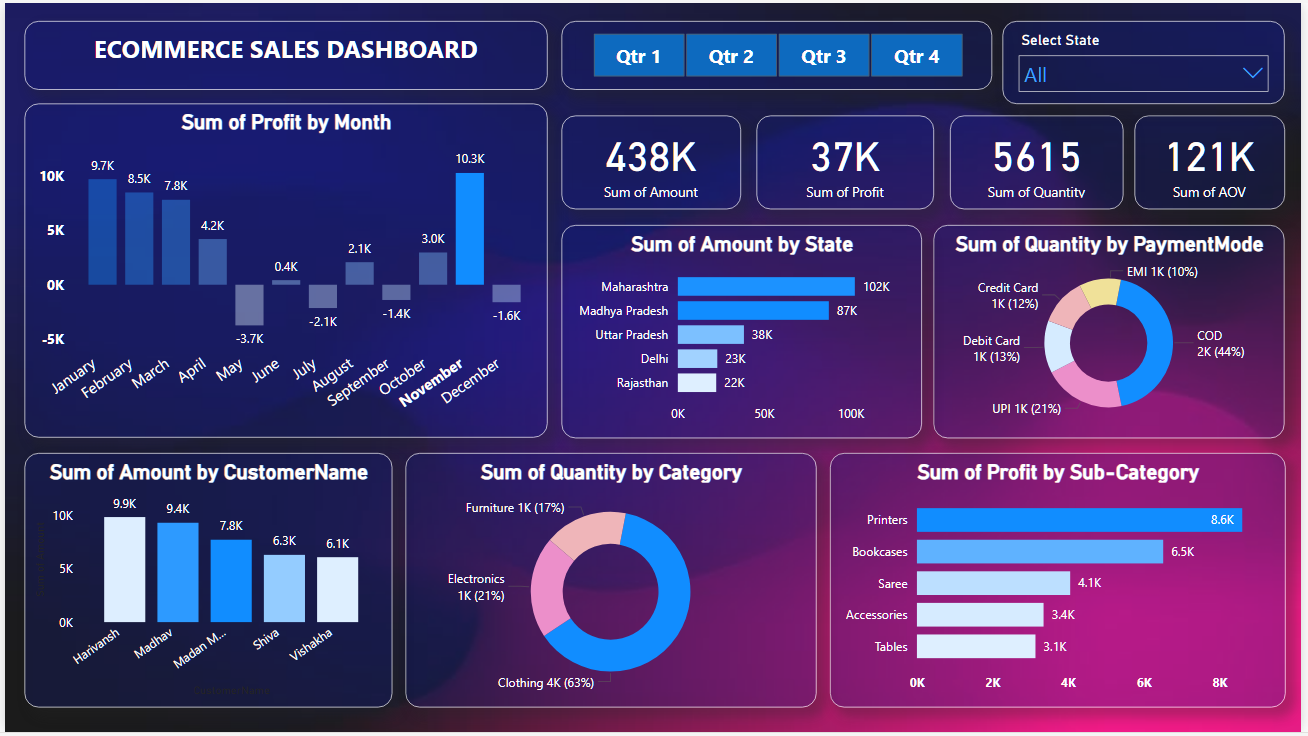

This screenshot's page, from the dashboard's own definition file:
{"tool":"powerbi","page":{"name":"Page 1","canvas":[1280,720],"ordinal":0},"visuals":[{"type":"textbox","box":[19.7,18.2,516.3,68.1],"z":0},{"type":"columnChart","fields":{"Y":["Details.Profit"],"Category":["Orders.Order Date.Variation.Date Hierarchy.Month"]},"box":[19.7,99.9,516.3,330.1],"z":1000},{"type":"barChart","fields":{"Category":["Details.Sub-Category"],"Y":["Details.Profit"]},"box":[814.6,445.2,449.7,251.4],"z":2000},{"type":"donutChart","fields":{"Category":["Details.Category"],"Y":["Details.Quantity"]},"box":[395.2,445.2,405.8,251.4],"z":3000},{"type":"donutChart","fields":{"Y":["Details.Quantity"],"Category":["Details.PaymentMode"]},"box":[917.6,219.6,346.8,210.5],"z":4000},{"type":"card","fields":{"Values":["Details.Amount"]},"box":[549.7,110.5,177.2,92.4],"z":5000},{"type":"card","fields":{"Values":["Details.Profit"]},"box":[742,110.5,175.6,92.4],"z":6000},{"type":"card","fields":{"Values":["Details.Quantity"]},"box":[932.8,110.5,171.1,92.4],"z":7000},{"type":"card","fields":{"Values":["Details.AOV"]},"box":[1116,110.5,148.4,92.4],"z":8000},{"type":"barChart","fields":{"Category":["Orders.State"],"Y":["Details.Amount"]},"box":[549.7,219.6,355.8,210.5],"z":9000},{"type":"columnChart","fields":{"Category":["Orders.CustomerName"],"Y":["Details.Amount"]},"box":[19.7,445.2,363.4,251.4],"z":10000},{"type":"slicer","fields":{"Values":["Orders.Order Date.Variation.Date Hierarchy.Quarter"]},"box":[549.7,18.2,425.5,68.1],"z":11000},{"type":"slicer","fields":{"Values":["Orders.State"]},"box":[985.7,18.2,278.6,81.8],"z":12000}]}

Visuals, with their boxes in screenshot pixels (x1, y1, x2, y2), scaled from the page's 1280x720 canvas onto the 1308x736 screenshot:
textbox: bbox=[20, 19, 548, 88]
columnChart - Details.Profit x Orders.Order Date.Variation.Date Hierarchy.Month: bbox=[20, 102, 548, 440]
barChart - Details.Sub-Category x Details.Profit: bbox=[832, 455, 1292, 712]
donutChart - Details.Category x Details.Quantity: bbox=[404, 455, 819, 712]
donutChart - Details.Quantity x Details.PaymentMode: bbox=[938, 224, 1292, 440]
card - Details.Amount: bbox=[562, 113, 743, 207]
card - Details.Profit: bbox=[758, 113, 938, 207]
card - Details.Quantity: bbox=[953, 113, 1128, 207]
card - Details.AOV: bbox=[1140, 113, 1292, 207]
barChart - Orders.State x Details.Amount: bbox=[562, 224, 925, 440]
columnChart - Orders.CustomerName x Details.Amount: bbox=[20, 455, 391, 712]
slicer - Orders.Order Date.Variation.Date Hierarchy.Quarter: bbox=[562, 19, 997, 88]
slicer - Orders.State: bbox=[1007, 19, 1292, 102]
